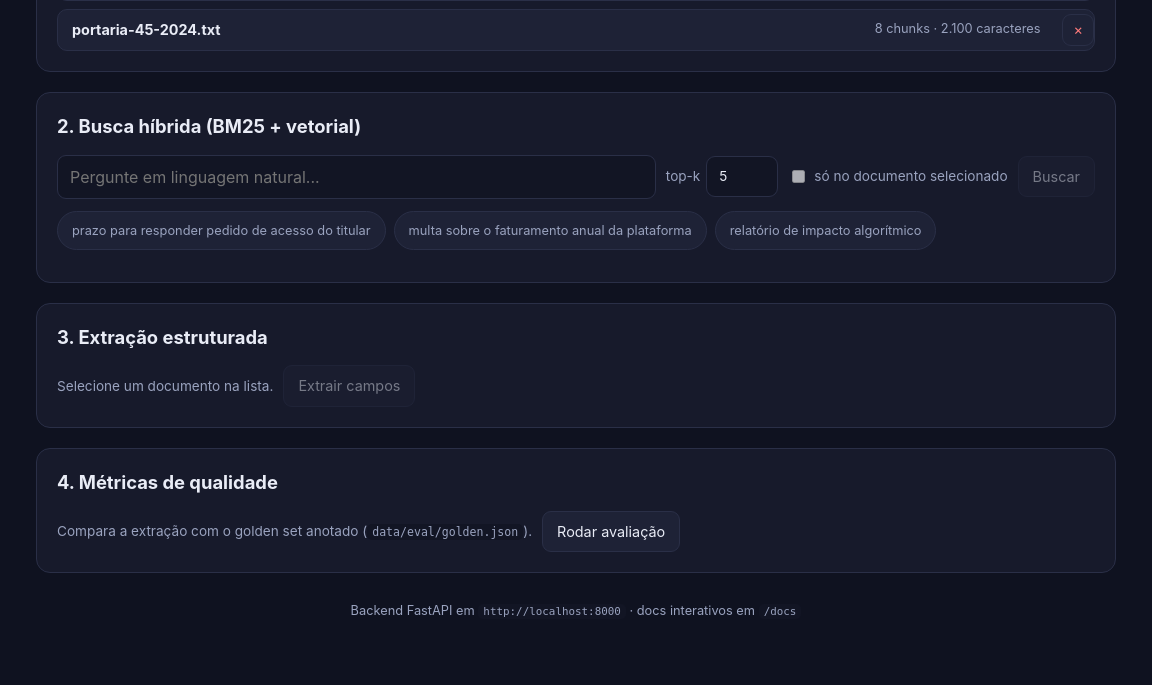
Scenario: App › mostra métricas de avaliação e destaca campo fraco
(page scrolled)
Click the button "Rodar avaliação" at [611, 532], box [542,511,680,552]
(page scrolled)
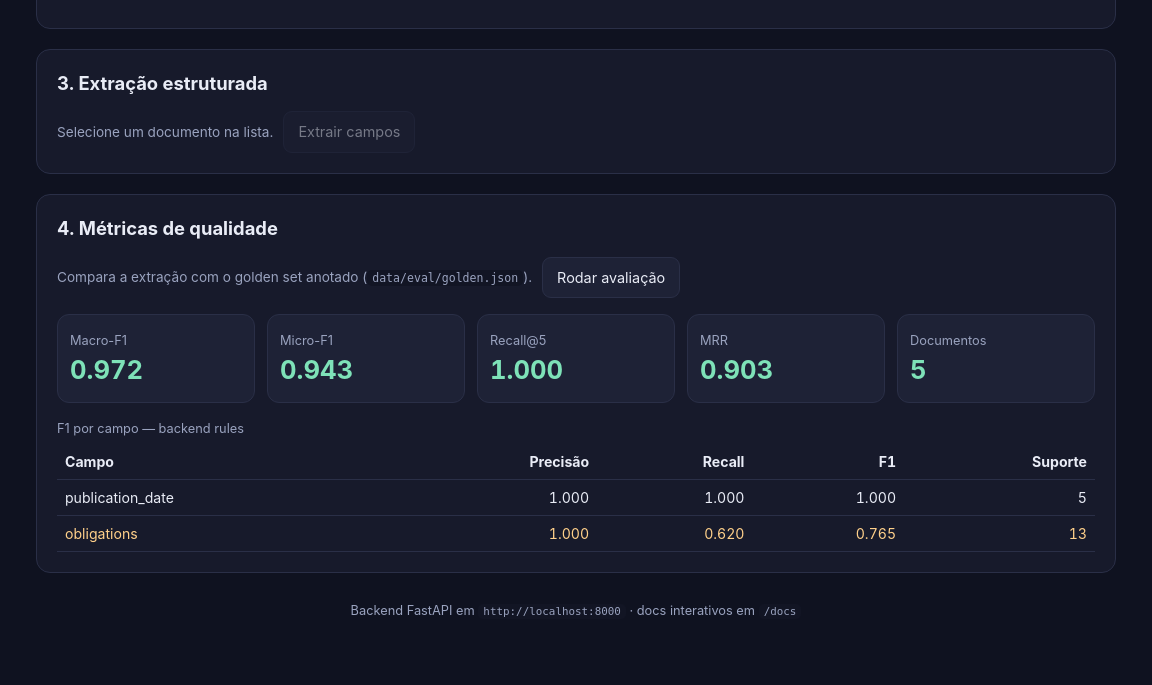
Now the text "0.972" is shown, box [70,354,143,385]
Now the text "0.903" is shown, box [700,354,773,385]
Now the text "0.765" is shown, box [752,516,904,552]
